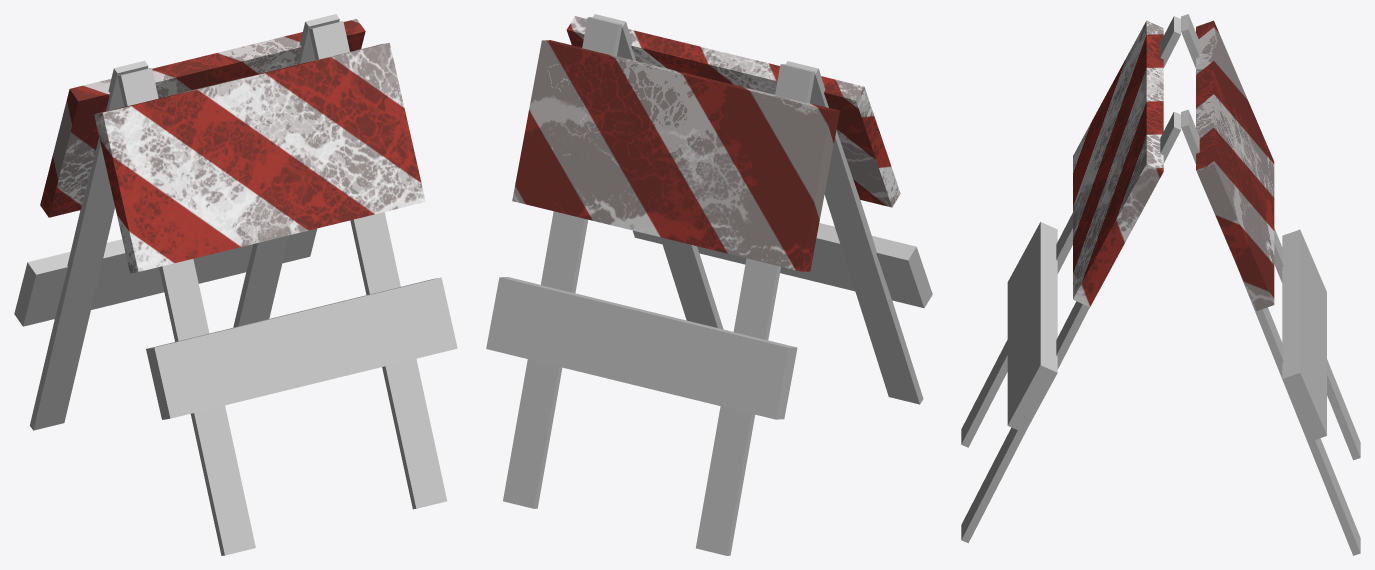
File: barriere.fbx
3 views of the same model, side by side, from view 1: azimuth 30°, elevation 25°; view 2: azimuth 150°, elevation 25°; view 3: azimuth 270°, elevation 25° (orthographic). The views are drawn at different scales.
Visible parts, largest first — view 1: Barricade; view 2: Barricade; view 3: Barricade.
Boxes of the visible parts, <box> form: Barricade: <box>14,14,457,555</box>; Barricade: <box>486,14,932,555</box>; Barricade: <box>961,14,1360,555</box>.
Size of the model in its own units: 114 by 160 by 134.
